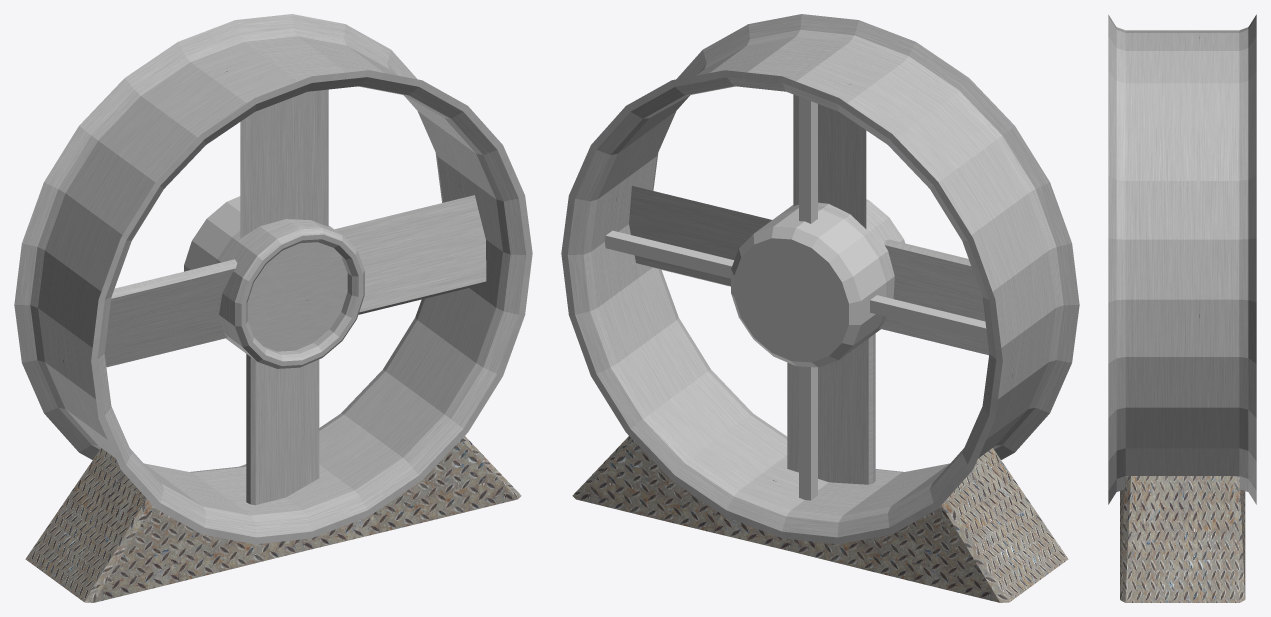
File: Fan.fbx
The picture shows the model from 3 angles, left to right: view 1: azimuth 30°, elevation 25°; view 2: azimuth 150°, elevation 25°; view 3: azimuth 270°, elevation 25°; orthographic projection. The views are drawn at different scales.
Visible parts, largest first — view 1: Duct, Fan, Base, Motor; view 2: Duct, Fan, Base, Motor, Brackets; view 3: Duct, Base.
Boxes of the visible parts, x1,y1,x2,y2 form: Duct: (14, 14, 532, 544); Fan: (104, 89, 486, 505); Base: (25, 436, 521, 602); Motor: (184, 196, 240, 342); Duct: (561, 14, 1079, 544); Fan: (629, 94, 989, 484); Base: (572, 436, 1068, 602); Motor: (731, 208, 886, 367); Brackets: (605, 96, 987, 500); Duct: (1108, 14, 1256, 504); Base: (1120, 476, 1245, 602).
Bounding box in the file's own units: 2.21 × 2.29 × 0.6644.
